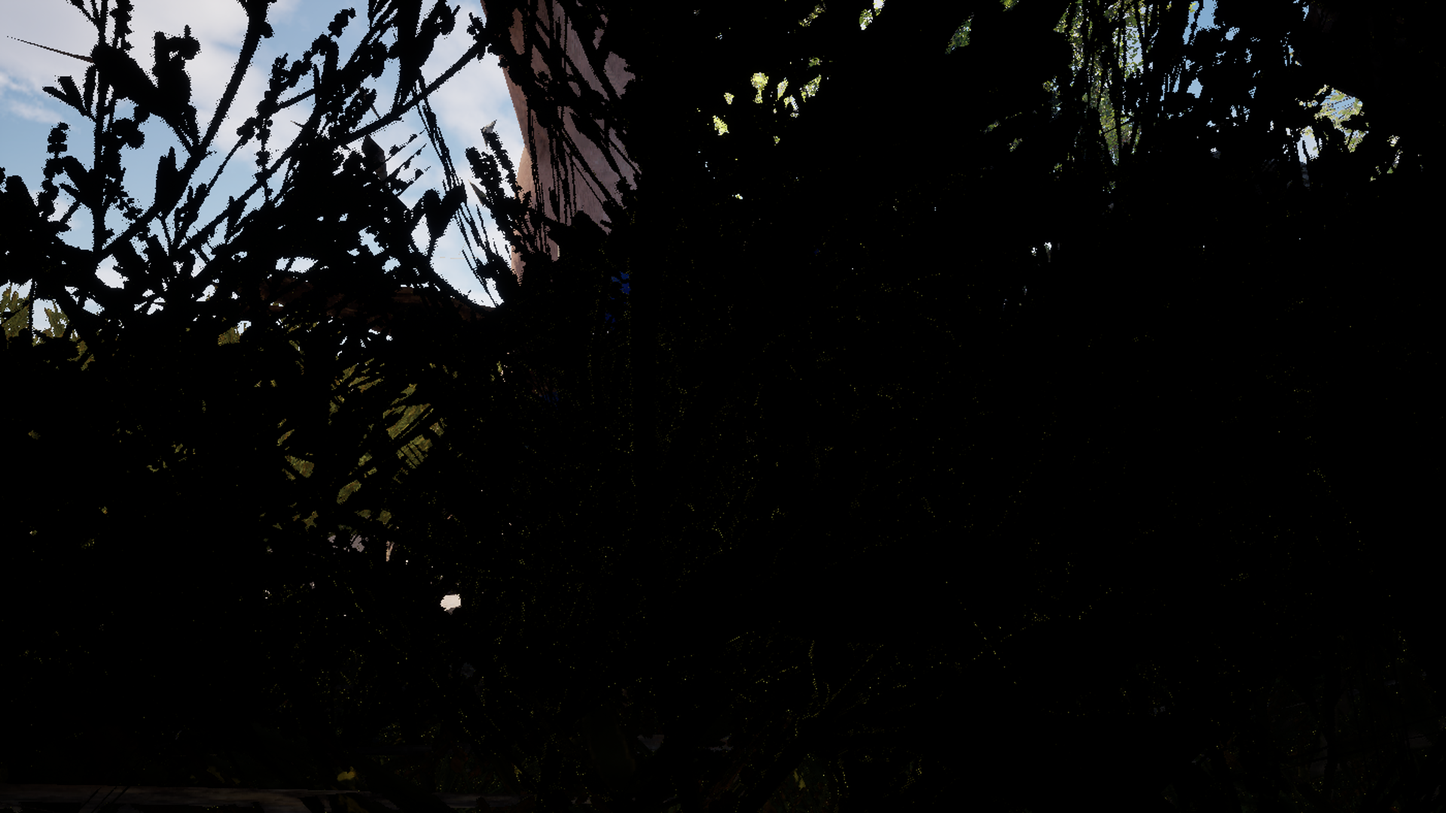Piplup: (312, 0, 1204, 813)
